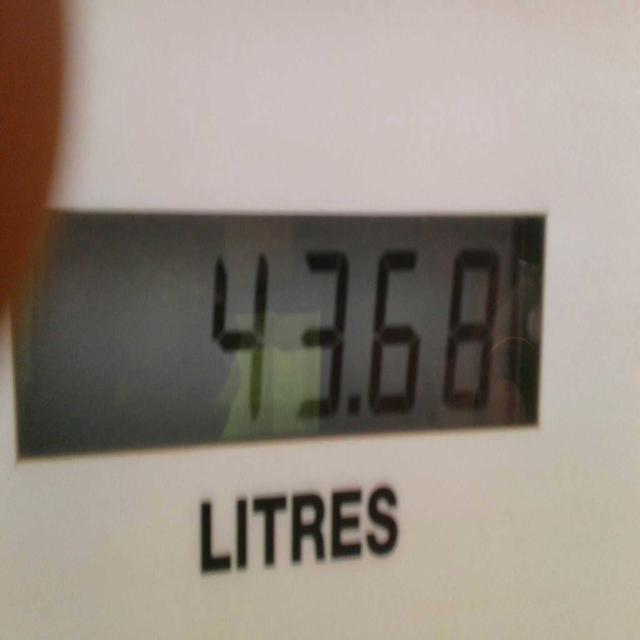.: (339, 378, 364, 434)
3: (281, 242, 351, 434)
4: (202, 250, 278, 423)
6: (362, 254, 430, 433)
8: (430, 236, 509, 400)
